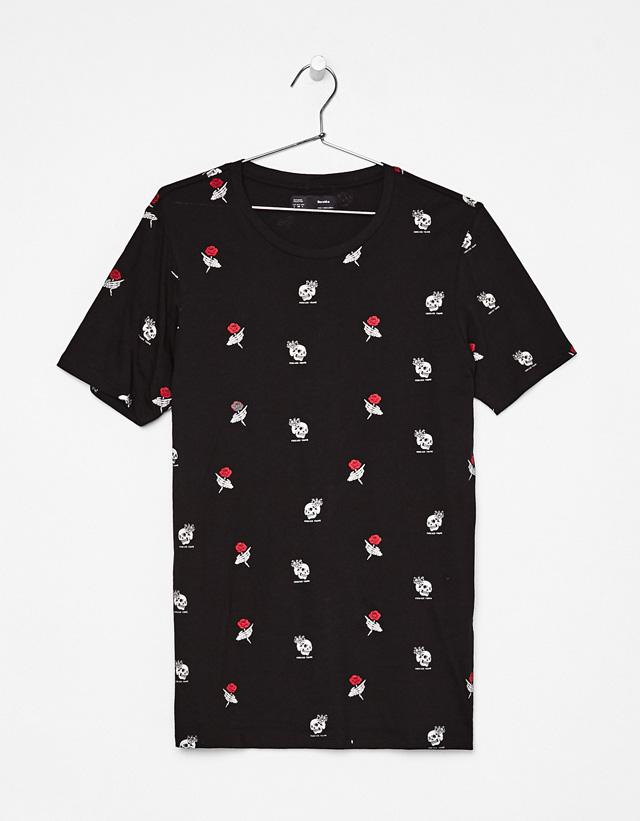teeshirt: (54, 154, 583, 759)
